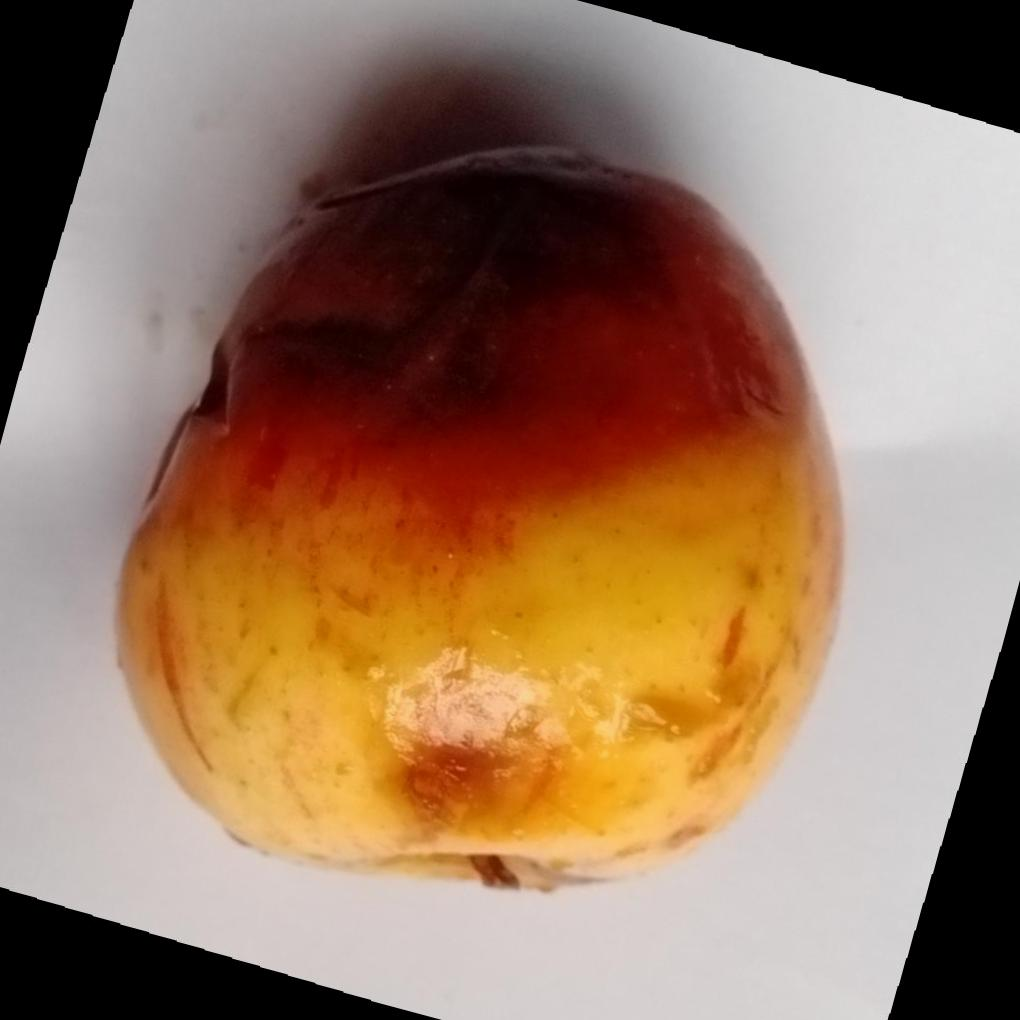FreshOrange: (112, 143, 844, 895)
